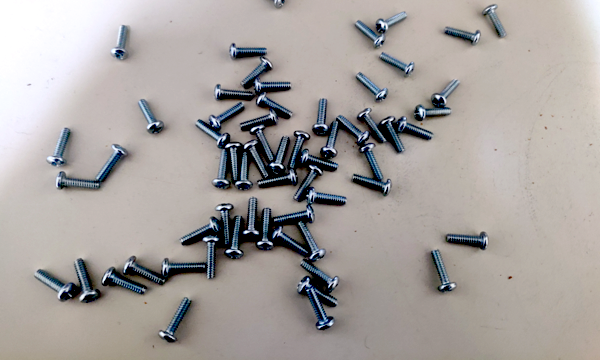shortscrew: (158, 298, 192, 344), (34, 269, 77, 303), (300, 259, 340, 294), (123, 256, 167, 286), (102, 267, 147, 296), (307, 287, 336, 331), (298, 277, 339, 308), (272, 225, 310, 258), (96, 143, 128, 182), (179, 217, 221, 246), (74, 258, 101, 303), (298, 221, 327, 262), (293, 164, 324, 202), (431, 250, 458, 293), (358, 108, 388, 145), (195, 119, 231, 149), (241, 57, 274, 89), (337, 115, 371, 146), (256, 91, 293, 119), (243, 140, 270, 178), (356, 72, 389, 103), (46, 128, 71, 168), (209, 103, 246, 130), (380, 116, 406, 154), (396, 116, 435, 141), (360, 143, 385, 182), (250, 124, 275, 163), (162, 258, 206, 280), (351, 174, 393, 197), (137, 100, 164, 135), (299, 149, 339, 172), (378, 53, 415, 77), (482, 4, 507, 39), (355, 20, 386, 48), (224, 216, 244, 259), (431, 79, 460, 108), (56, 171, 100, 190), (289, 131, 311, 169), (268, 136, 290, 174), (240, 109, 279, 130), (256, 208, 275, 251), (203, 235, 221, 280), (444, 25, 482, 46), (306, 187, 348, 206), (215, 204, 234, 246), (257, 169, 298, 188), (446, 232, 489, 250), (242, 197, 260, 240), (376, 11, 409, 34), (212, 150, 231, 189), (235, 152, 254, 191), (274, 206, 315, 224), (321, 121, 340, 158), (225, 142, 242, 182), (215, 84, 253, 101), (111, 25, 129, 60), (313, 98, 330, 135), (230, 44, 268, 60), (415, 105, 452, 121), (253, 0, 286, 9)
